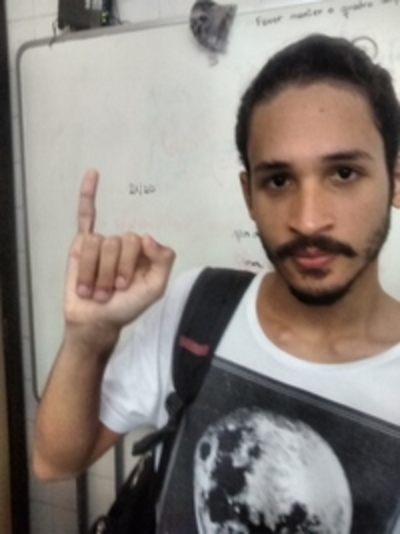closedhandfront: (57, 227, 177, 313)
mindinho: (63, 159, 101, 239)
